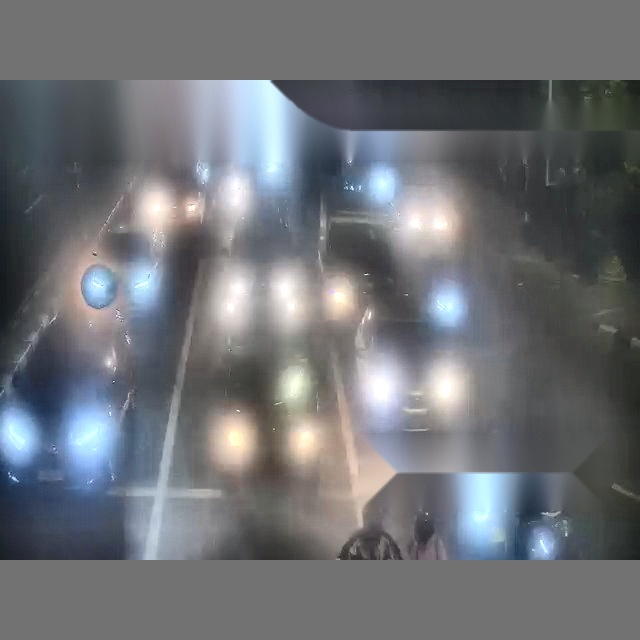Mobil: (0, 315, 126, 556)
